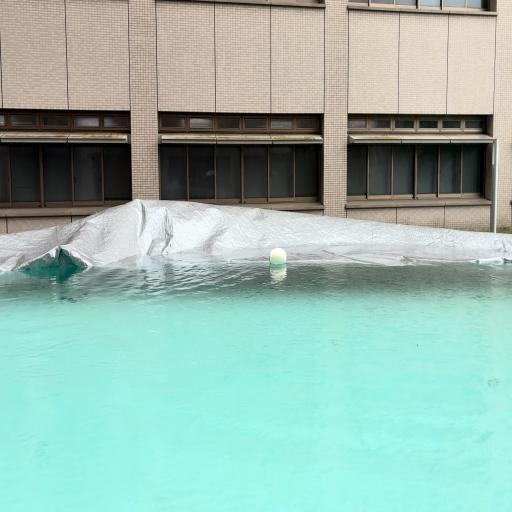white buoy: (269, 247, 287, 264)
